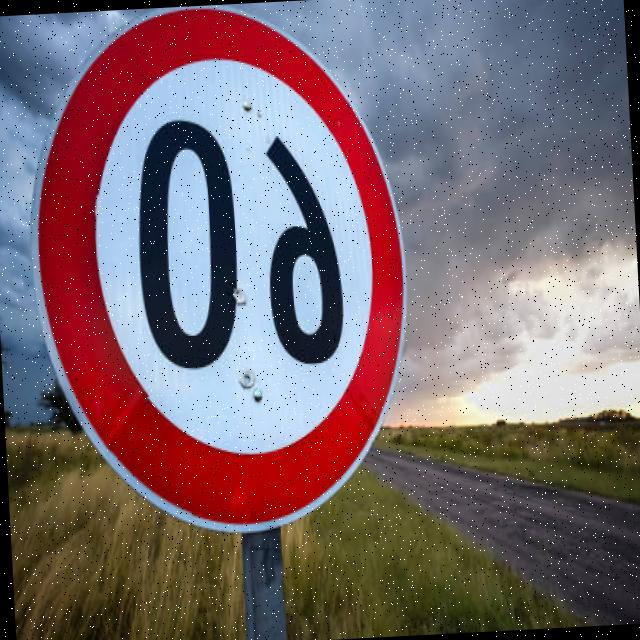speed_limit_60: (15, 0, 418, 547)
